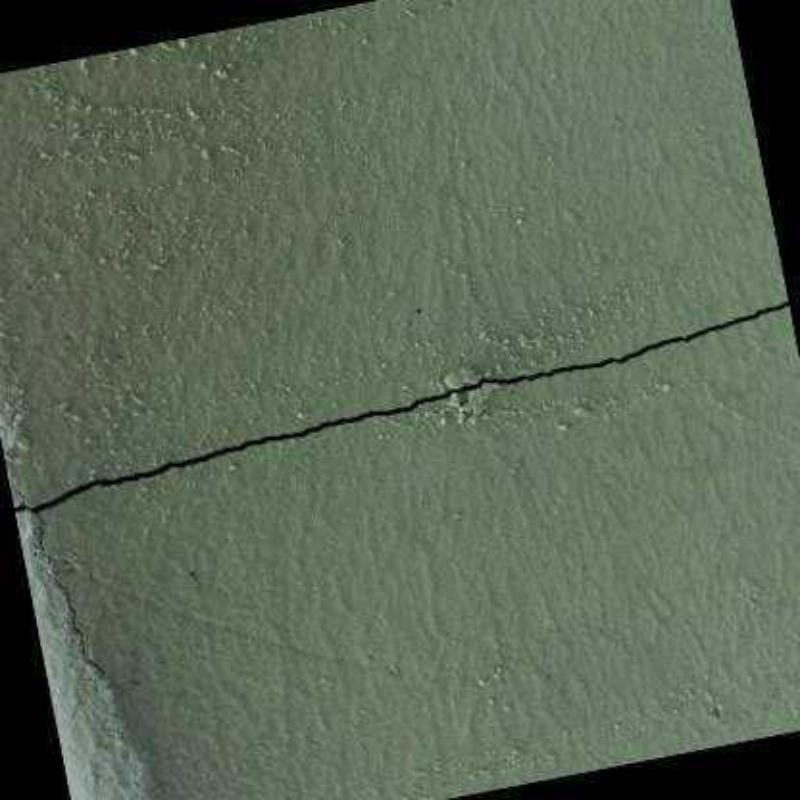pothole: (12, 297, 789, 519), (35, 513, 108, 679)
